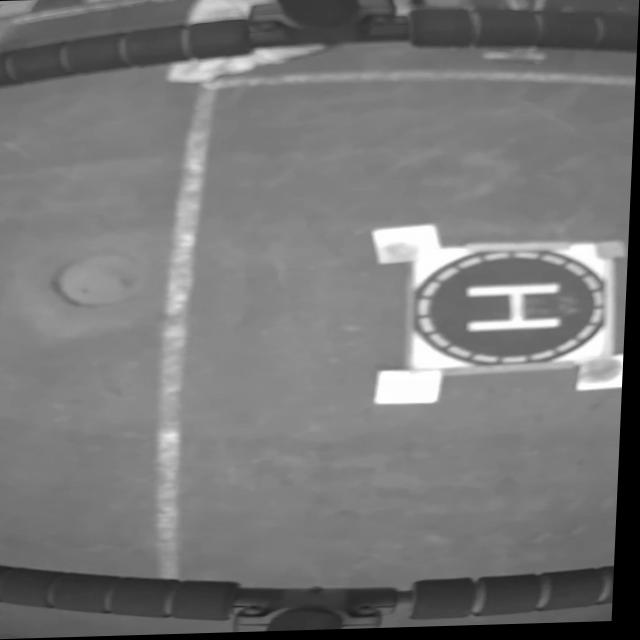Helipad: (467, 286, 568, 334)
